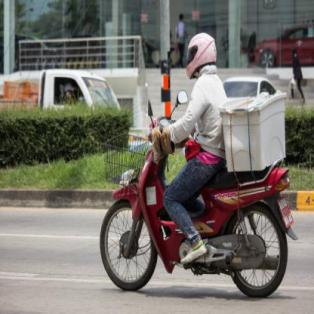Motocicleta: (100, 112, 289, 299)
